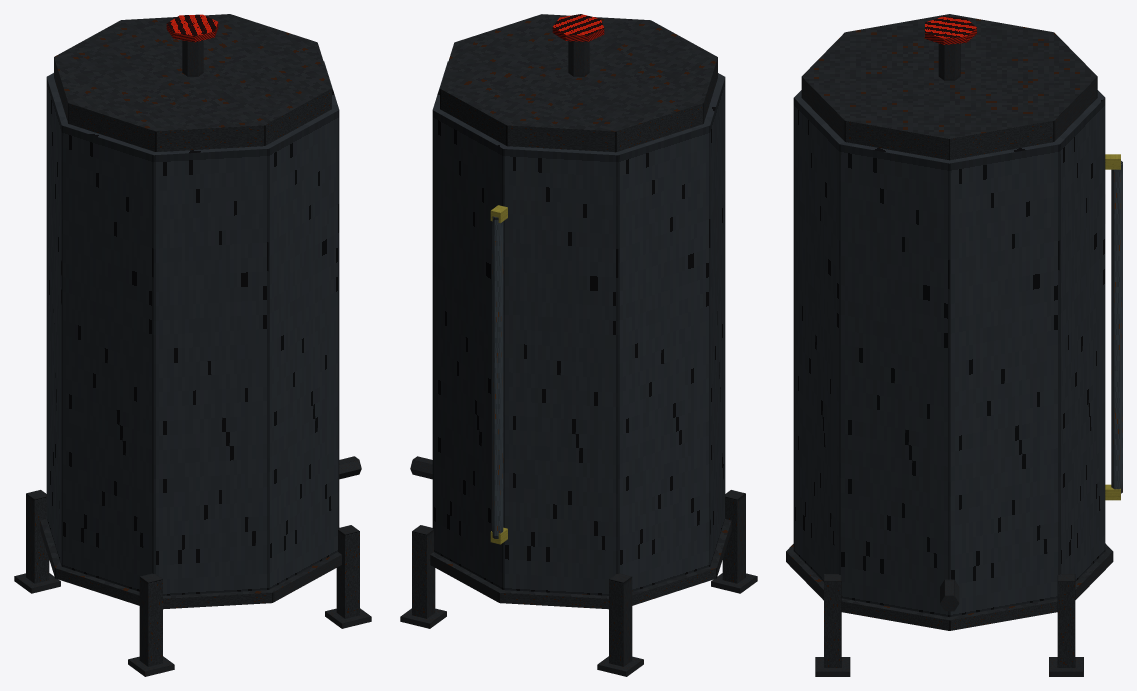
Rendered from hydroponic_tank.glb.
3 views of the same model, side by side, from view 1: azimuth 30°, elevation 25°; view 2: azimuth 150°, elevation 25°; view 3: azimuth 270°, elevation 25° (orthographic). The views are drawn at different scales.
Parts seen in each view (by area): view 1: hydroponic_tank; view 2: hydroponic_tank; view 3: hydroponic_tank.
Boxes of the visible parts, <box> form: hydroponic_tank: <box>14,14,371,676</box>; hydroponic_tank: <box>400,14,757,676</box>; hydroponic_tank: <box>786,14,1122,676</box>.
Size of the model in its own units: 0.92 by 1.68 by 0.865.
1 material, 1 textured.
